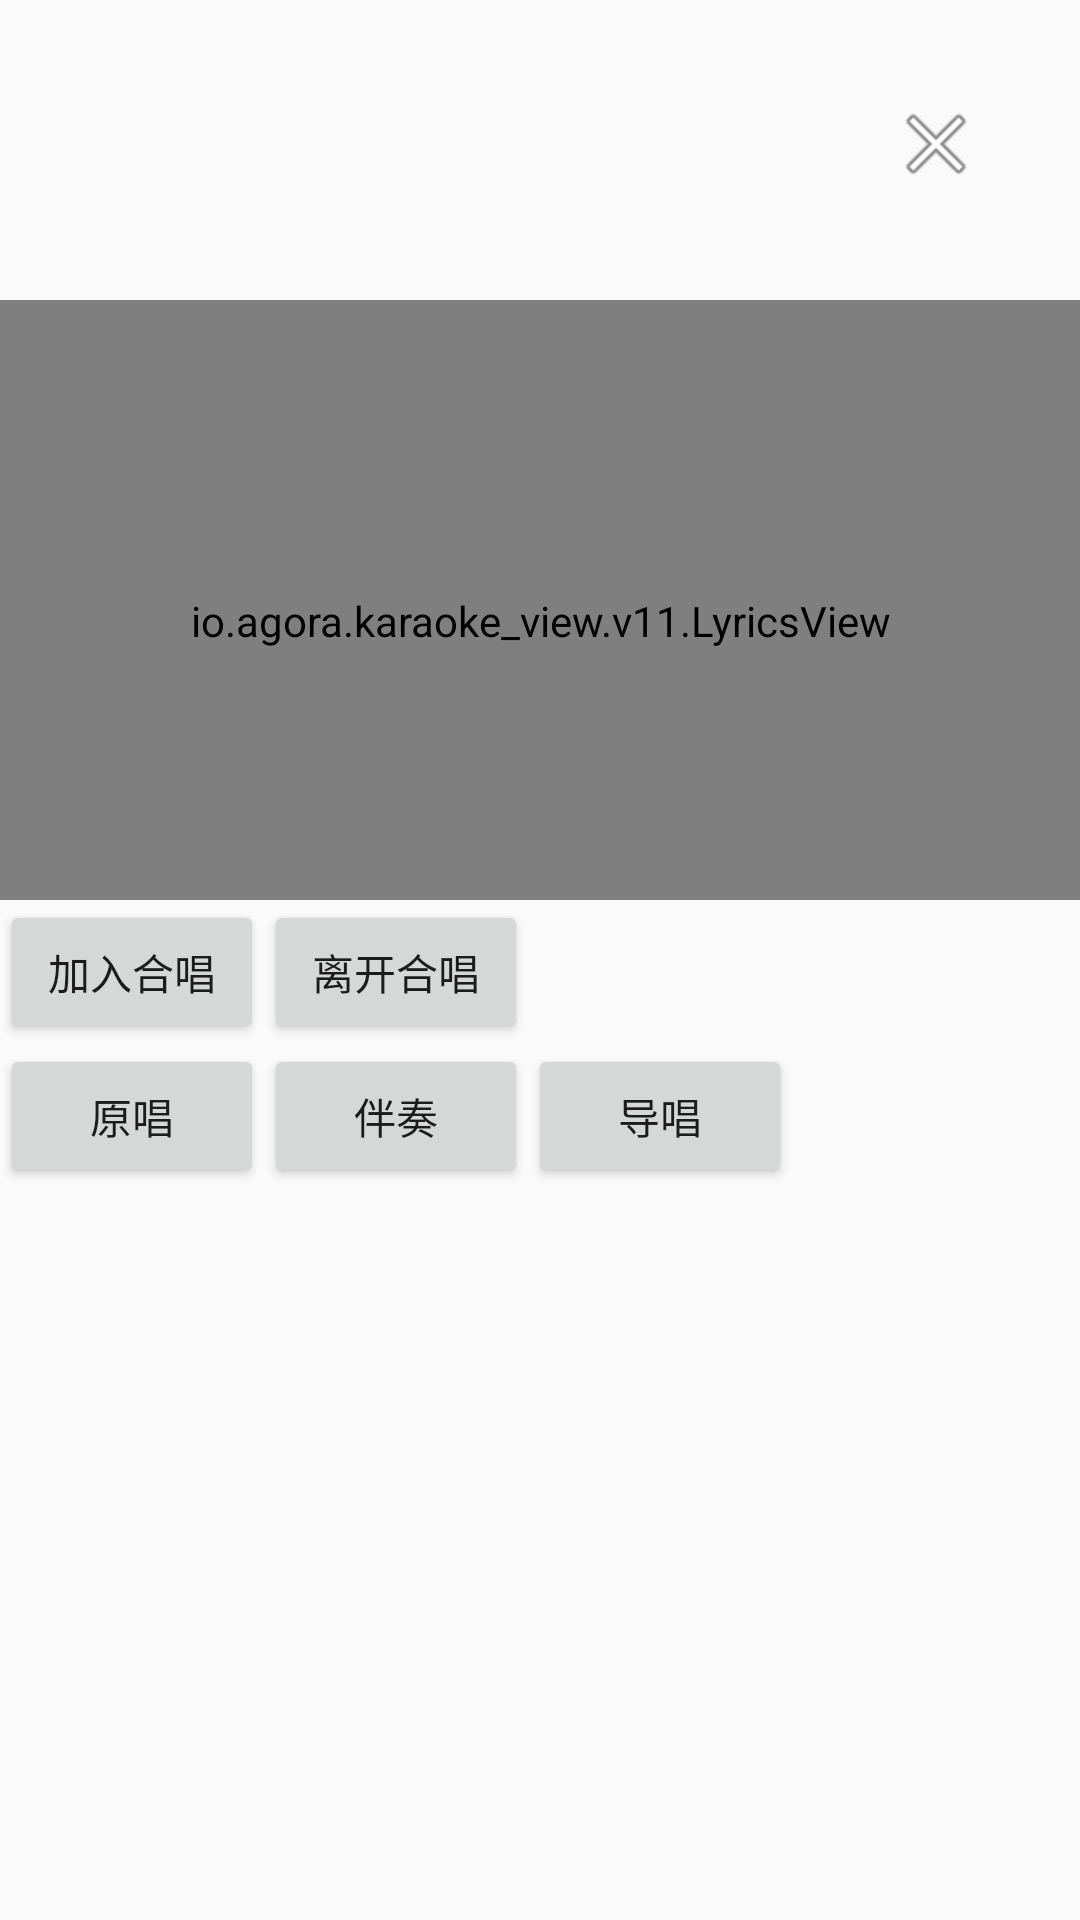

Screen size 1080*1920. Icon name, then its center in pixels as point (x, y):
close clear cancel: point (936, 144)
